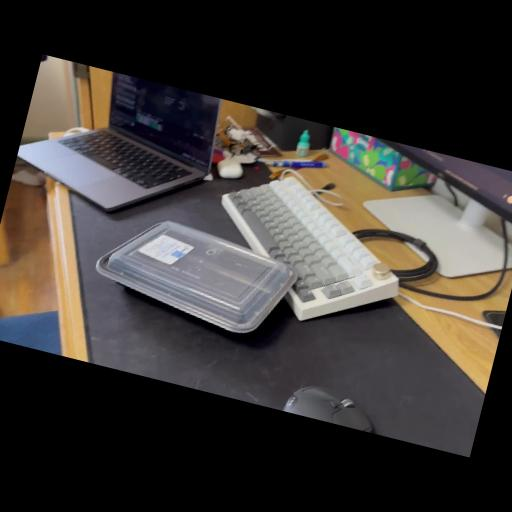rigid_plastic_container: (85, 202, 304, 348)
